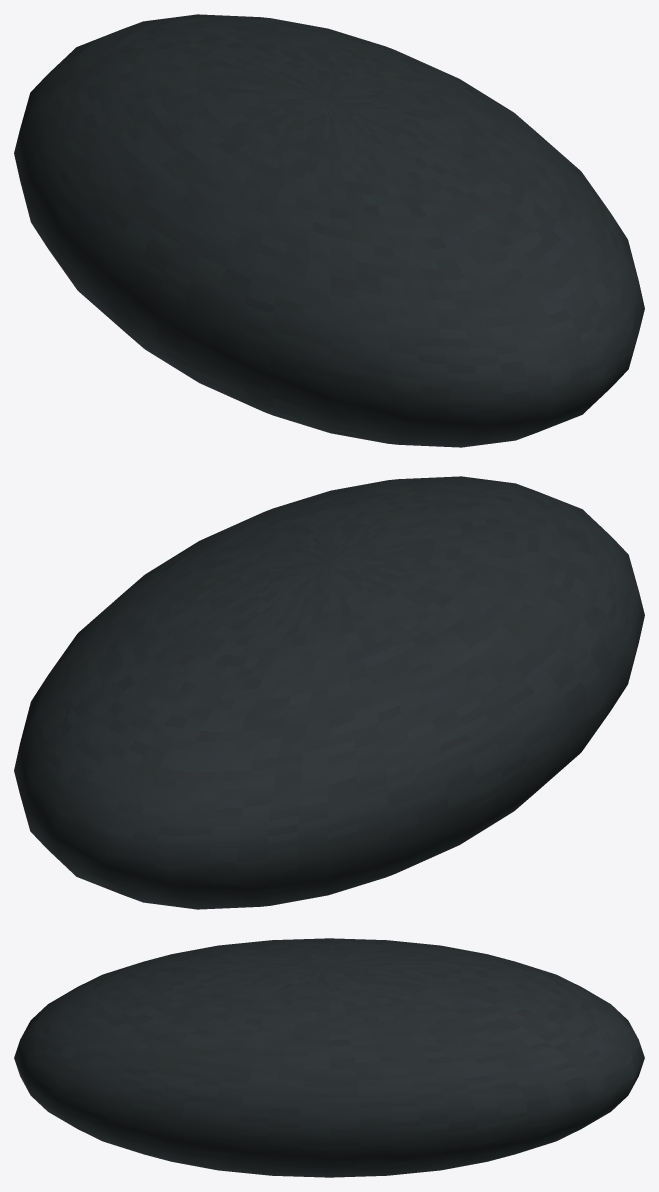
Rendered from mouse.glb.
The picture shows the model from 3 angles, top to bottom: view 1: azimuth 30°, elevation 25°; view 2: azimuth 150°, elevation 25°; view 3: azimuth 270°, elevation 25°; orthographic projection. The views are drawn at different scales.
Visible parts, largest first — view 1: fabric; view 2: fabric; view 3: fabric.
Part boxes in pixels (x1,y1,x2,y2): fabric: [14, 14, 644, 447]; fabric: [14, 476, 644, 909]; fabric: [14, 938, 644, 1177].
Bounding box in the file's own units: 0.063 × 0.0357 × 0.11.
Materials: 1 (1 with a texture image).
